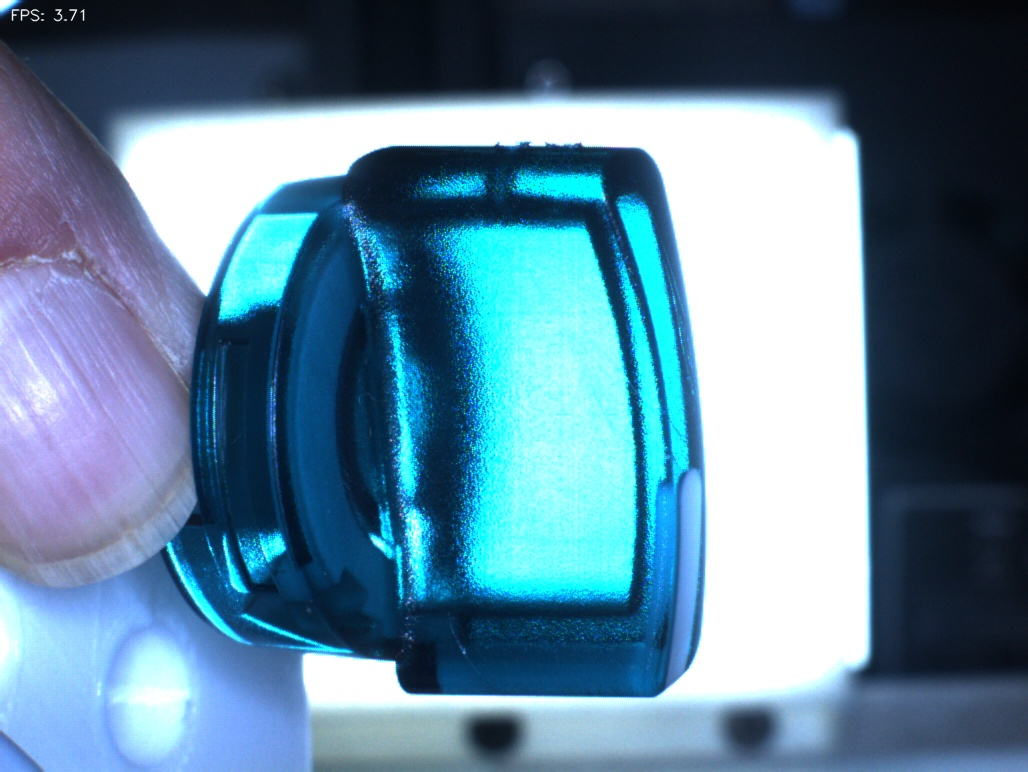Bulle: (442, 127, 553, 239)
